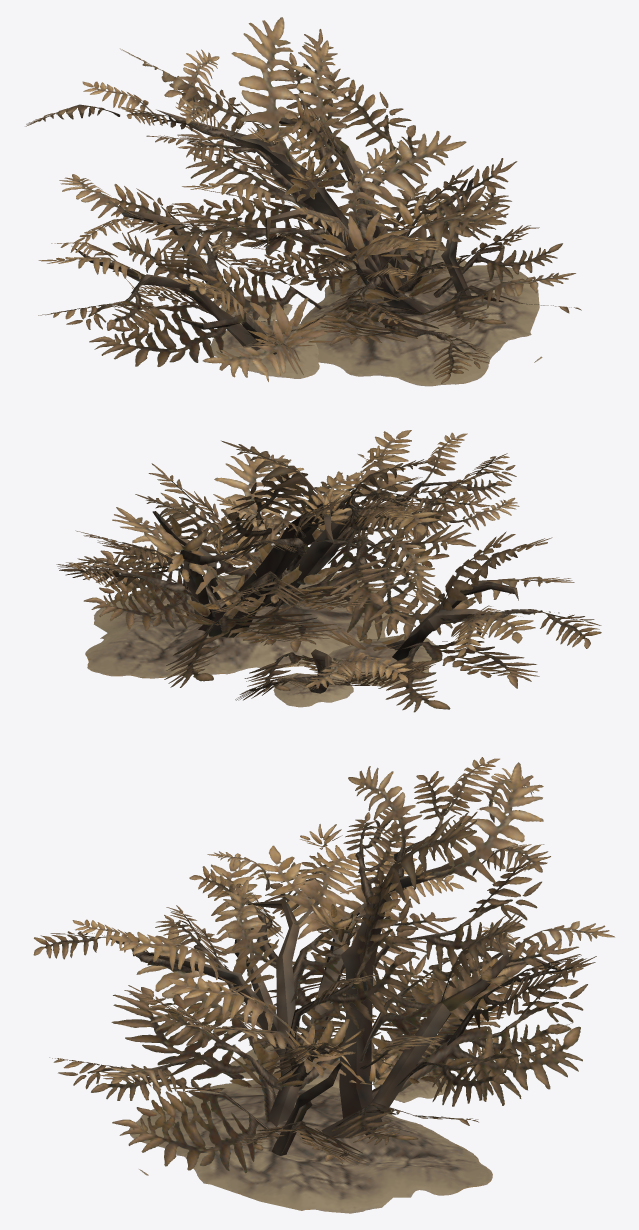
Rendered from sm_cao_5.FBX.
The picture shows the model from 3 angles, top to bottom: view 1: azimuth 30°, elevation 25°; view 2: azimuth 150°, elevation 25°; view 3: azimuth 270°, elevation 25°; orthographic projection. The views are drawn at different scales.
Parts seen in each view (by area): view 1: sm_cao_5; view 2: sm_cao_5; view 3: sm_cao_5.
Boxes of the visible parts, left/top/right/bottom form: sm_cao_5: left=25, top=17, right=581, bottom=386; sm_cao_5: left=56, top=430, right=601, bottom=712; sm_cao_5: left=33, top=757, right=614, bottom=1213.
Bounding box in the file's own units: 468 × 233 × 427.
